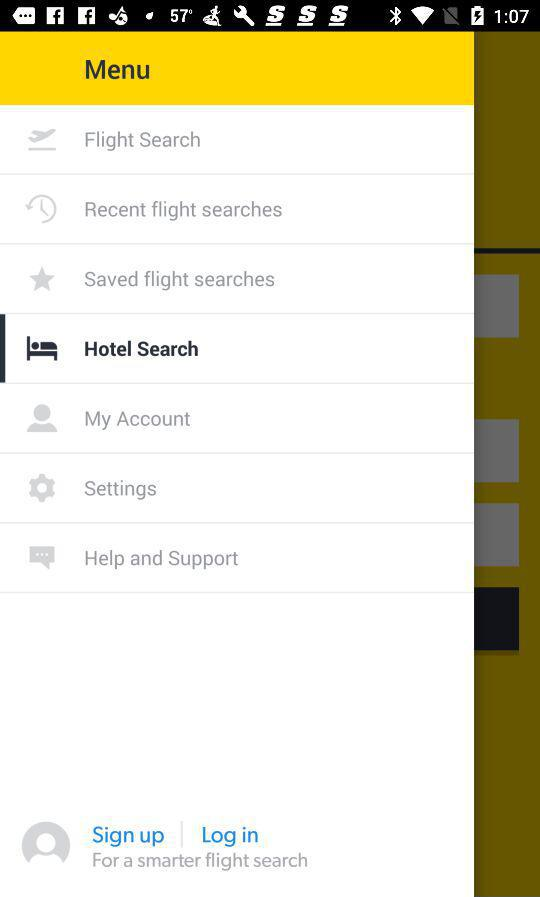Drawer: (1, 33, 474, 897)
Icon: (22, 821, 72, 867), (25, 194, 58, 225), (27, 404, 59, 433), (29, 474, 57, 504), (29, 266, 57, 292), (29, 546, 57, 570)
Image: (27, 335, 59, 362), (28, 128, 58, 152)
Text: (92, 851, 309, 874), (85, 200, 283, 223), (85, 269, 276, 292), (85, 548, 240, 571), (85, 130, 202, 153), (85, 410, 192, 432), (84, 340, 200, 358), (85, 479, 158, 502), (92, 825, 165, 848), (86, 59, 151, 81), (202, 825, 259, 848)
UpperTaskBar: (1, 1, 540, 33)
